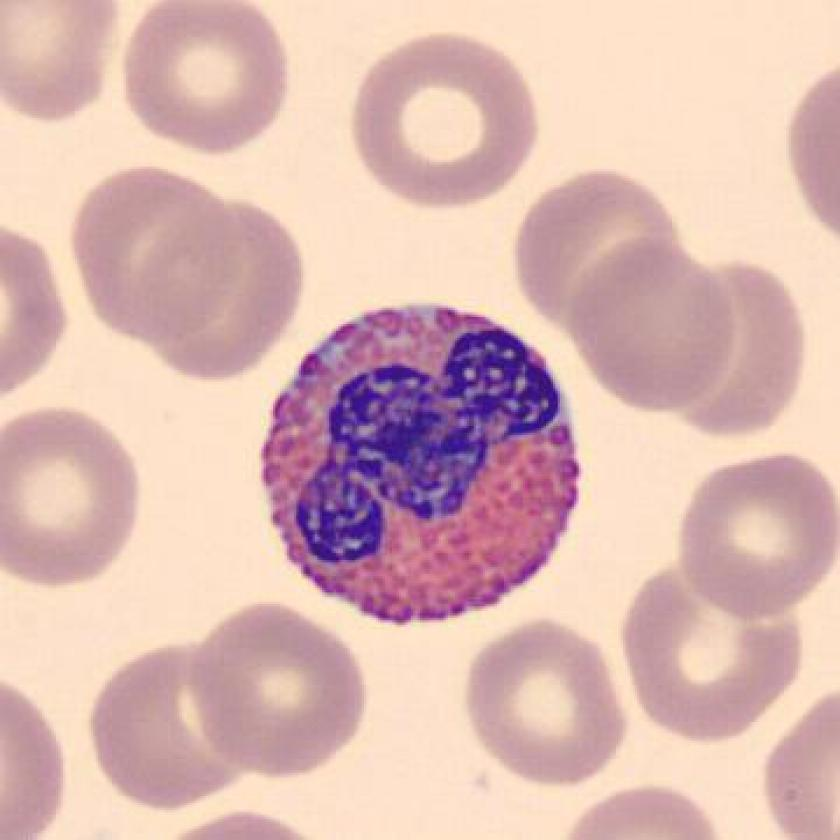eosinophil: (244, 290, 596, 640)
